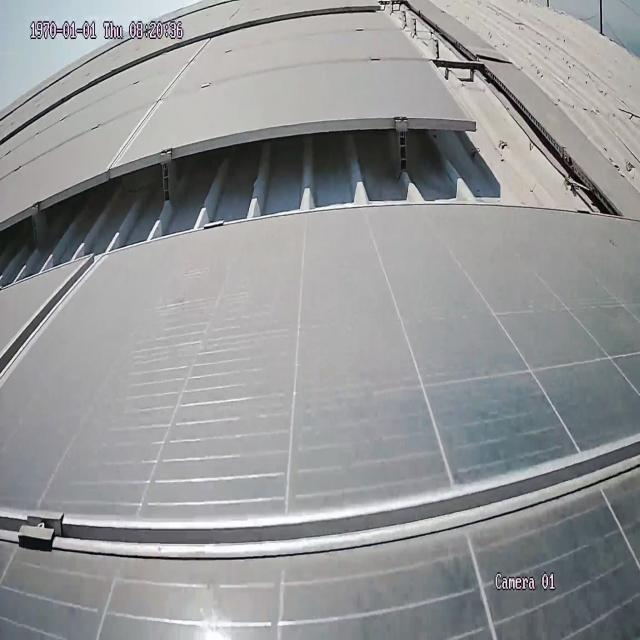interior panel: (0, 388, 640, 594), (0, 252, 106, 398)
outher panel: (0, 0, 640, 292)
